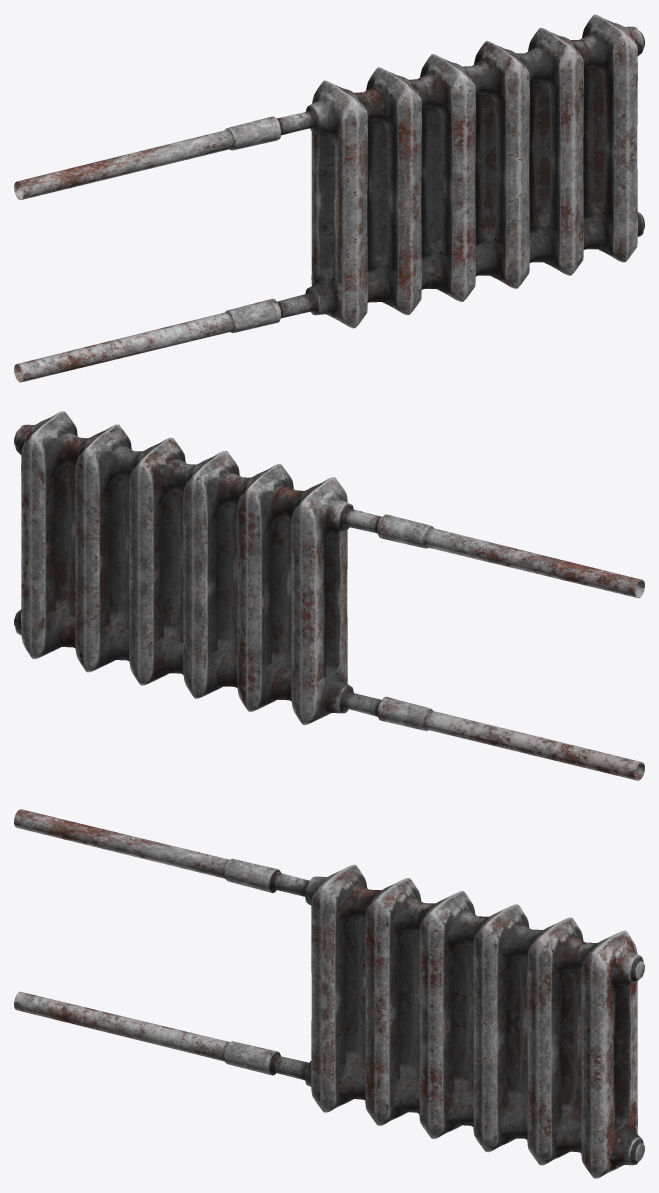
The model's file is батарея.fbx.
3 views of the same model, one above another, from view 1: azimuth 30°, elevation 25°; view 2: azimuth 150°, elevation 25°; view 3: azimuth 330°, elevation 25° (orthographic).
Visible parts, largest first — view 1: low_poly.002; view 2: low_poly.002; view 3: low_poly.002.
Part boxes in pixels (x1,y1,x2,y2): low_poly.002: (14, 14, 644, 382); low_poly.002: (14, 411, 644, 780); low_poly.002: (14, 809, 644, 1178).
Size of the model in its own units: 256 by 91.09 by 26.29.
